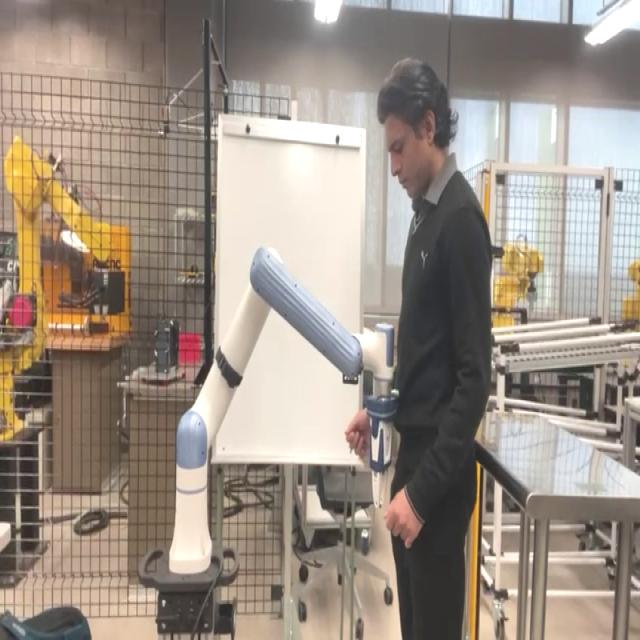robot: (136, 242, 398, 638)
